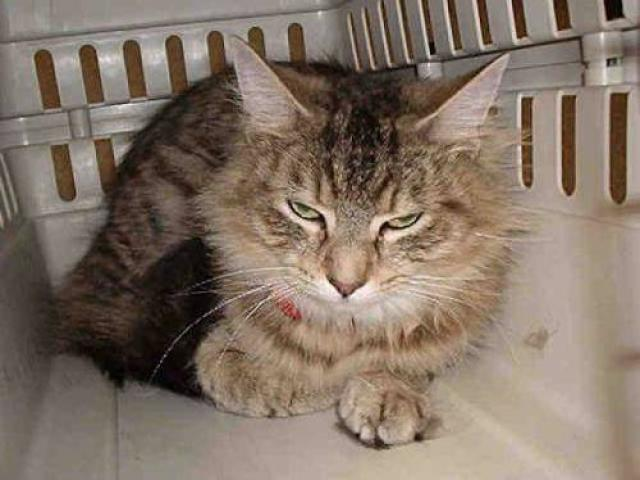cat: (63, 34, 525, 448)
